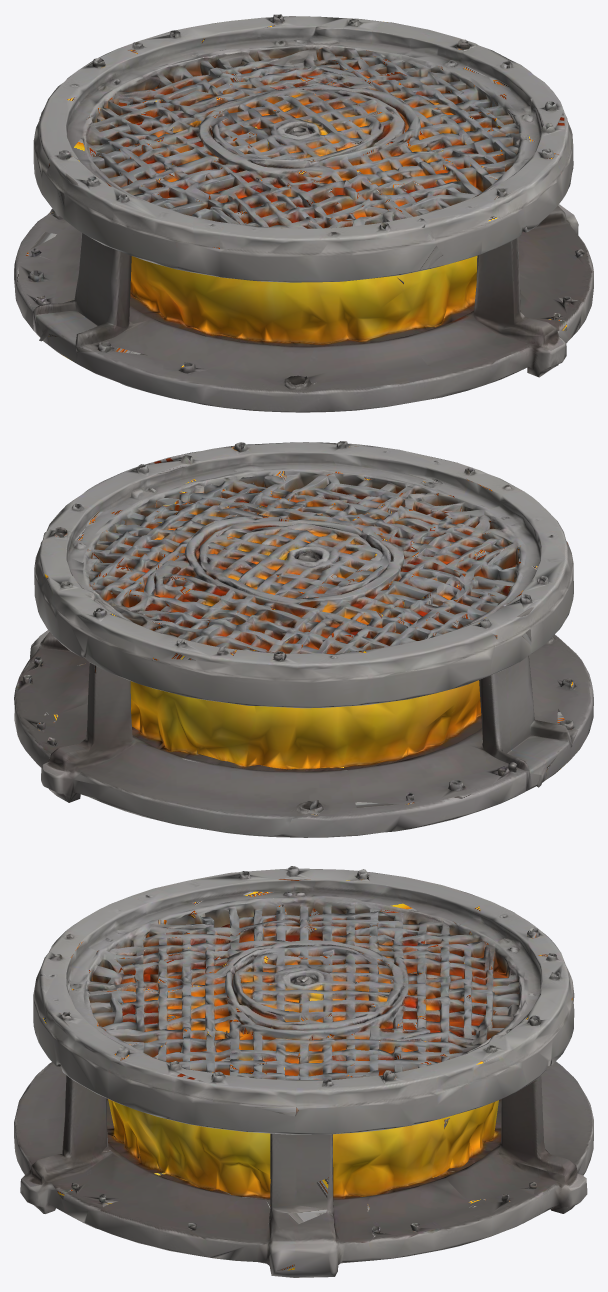
Rendered from floor_vent.glb.
3 renders of one model, top to bottom at view 1: azimuth 30°, elevation 25°; view 2: azimuth 150°, elevation 25°; view 3: azimuth 270°, elevation 25°, orthographic.
Parts seen in each view (by area): view 1: tripo_node_2c00efb7-5429-472d-9b63-74ae0bcbdbdc; view 2: tripo_node_2c00efb7-5429-472d-9b63-74ae0bcbdbdc; view 3: tripo_node_2c00efb7-5429-472d-9b63-74ae0bcbdbdc.
Part boxes in pixels (left/top/right/bottom): tripo_node_2c00efb7-5429-472d-9b63-74ae0bcbdbdc: left=14, top=14, right=593, bottom=412; tripo_node_2c00efb7-5429-472d-9b63-74ae0bcbdbdc: left=14, top=441, right=593, bottom=837; tripo_node_2c00efb7-5429-472d-9b63-74ae0bcbdbdc: left=14, top=866, right=593, bottom=1277.
Size of the model in its own units: 0.9856 by 0.335 by 0.9673.
1 material, 1 textured.
